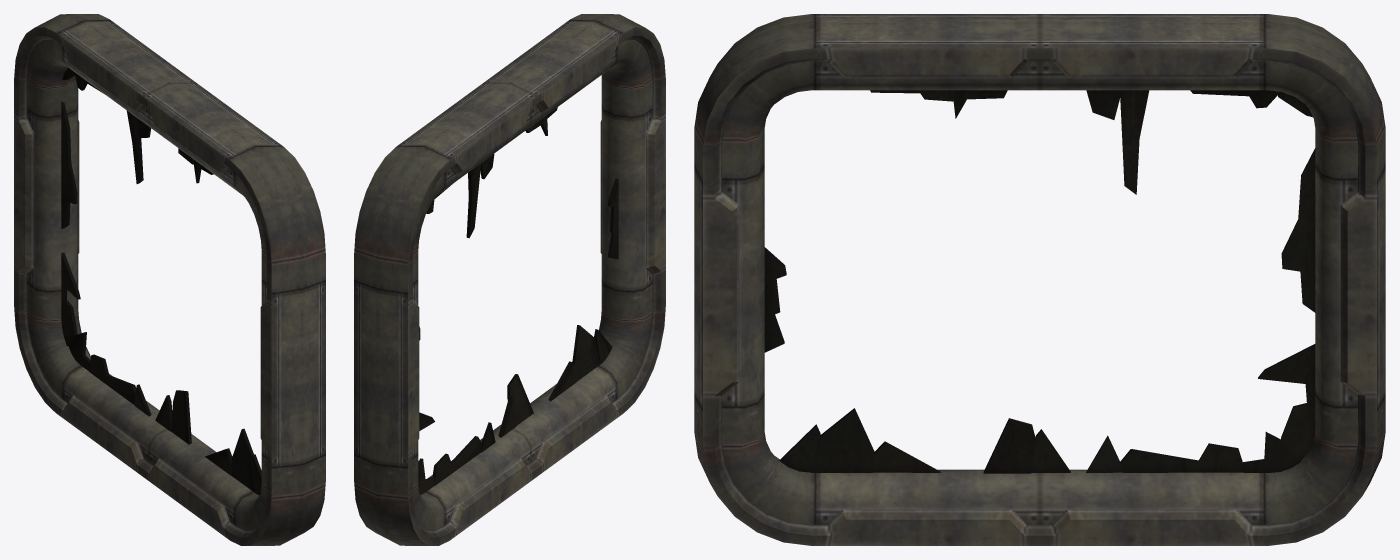
The model's file is pplant_windowframe_broken.dae.
3 views of the same model, side by side, from view 1: azimuth 30°, elevation 25°; view 2: azimuth 150°, elevation 25°; view 3: azimuth 270°, elevation 25° (orthographic). The views are drawn at different scales.
Parts seen in each view (by area): view 1: bulkhead_windowframe, glass_broken; view 2: bulkhead_windowframe, glass_broken; view 3: bulkhead_windowframe, glass_broken.
Boxes of the visible parts, x1,y1,x2,y2 form: bulkhead_windowframe: (14, 14, 325, 545); glass_broken: (61, 68, 261, 495); bulkhead_windowframe: (354, 14, 665, 545); glass_broken: (418, 107, 618, 494); bulkhead_windowframe: (694, 14, 1385, 545); glass_broken: (764, 90, 1315, 473).
Size of the model in its own units: 0.4087 by 2.84 by 3.46.
